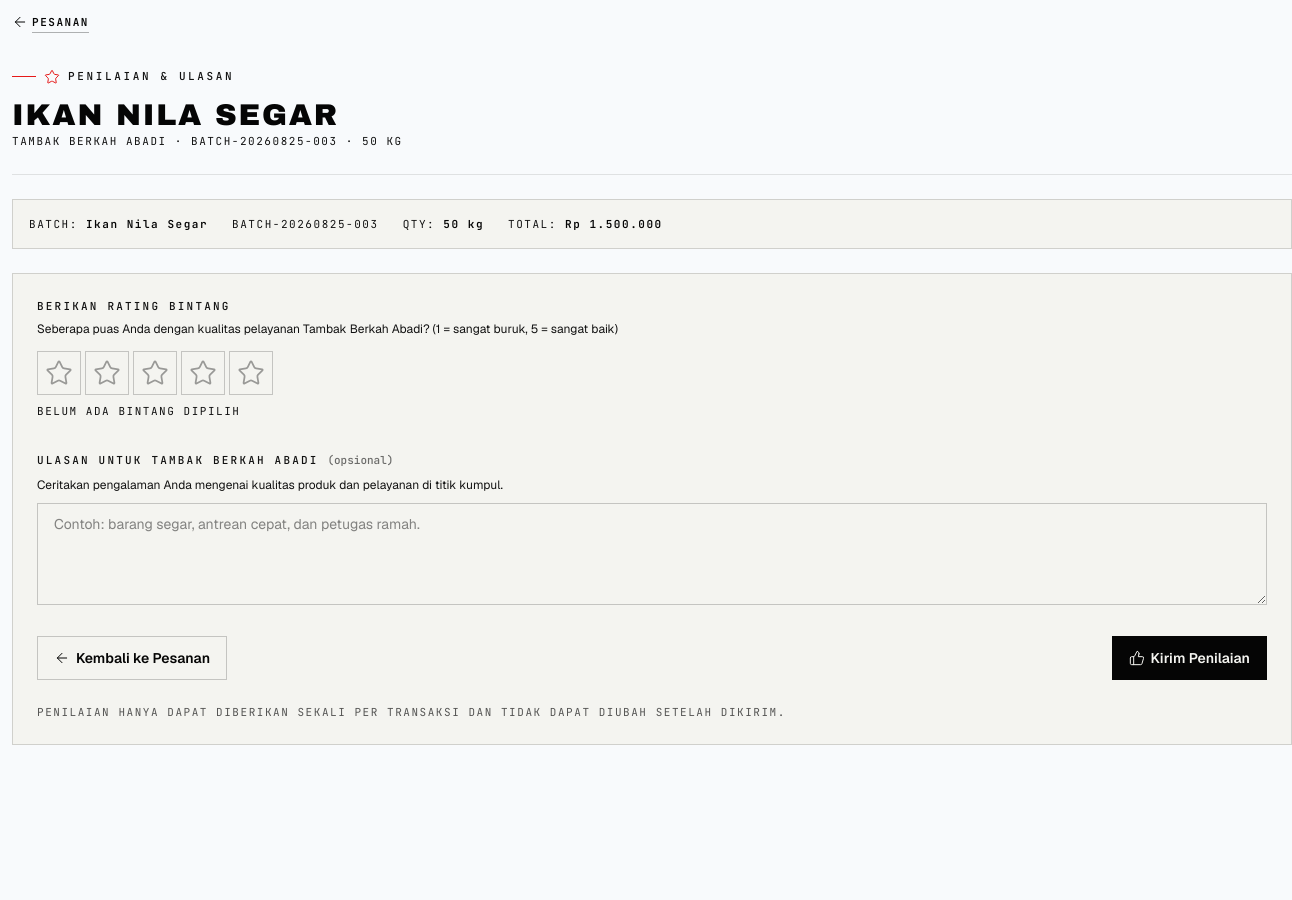
Test: RatingFormClient (PRD 2.2.6) › rejects submission before a star is chosen
Click the button "Kirim Penilaian" at (1189, 658), box [1112,636,1267,680]
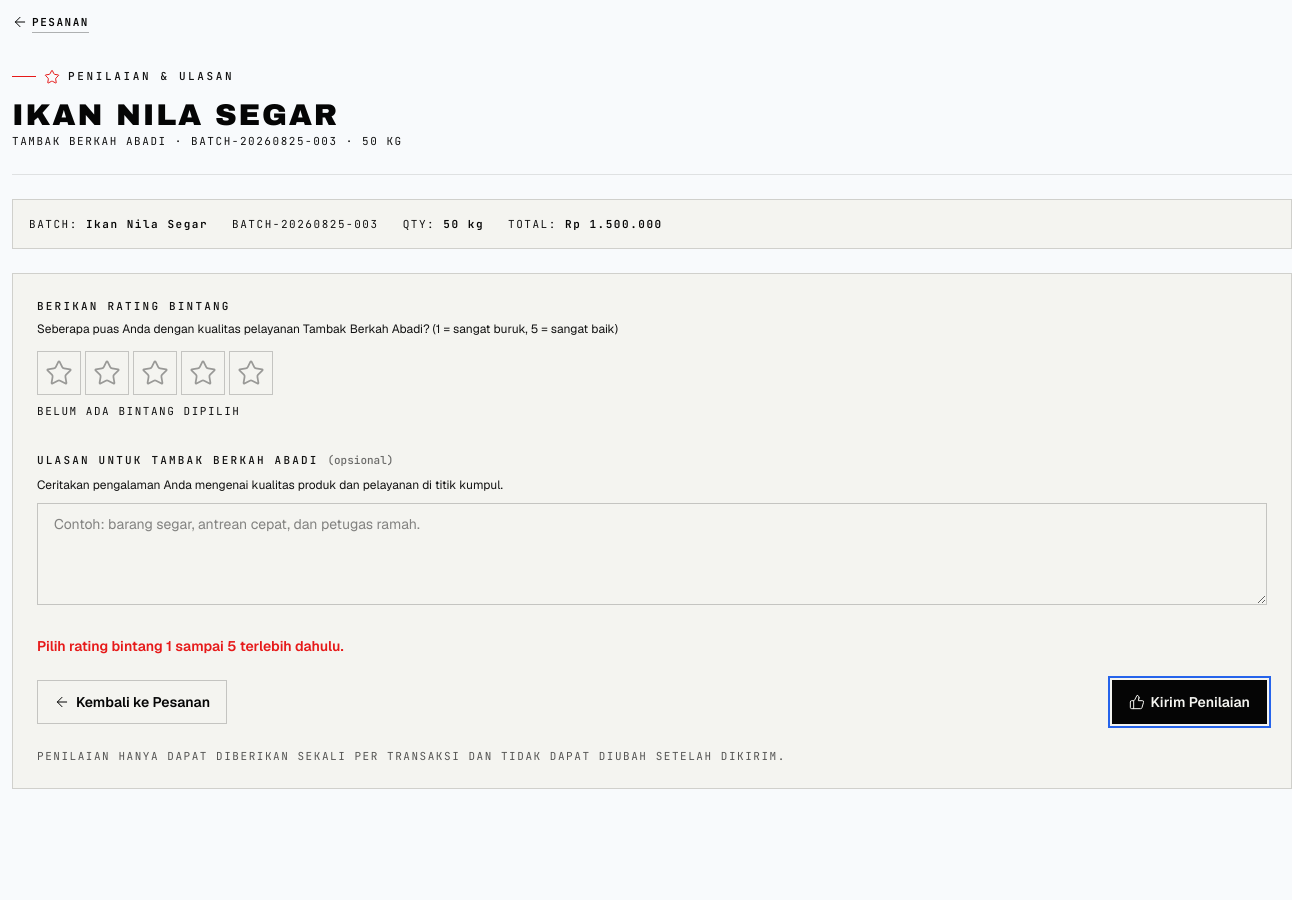
Check: the message "Pilih rating bintang 1 sampai 5 terlebih dahulu." is shown, box [37,637,344,655]
